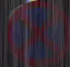No Stopping: (4, 2, 63, 61)
